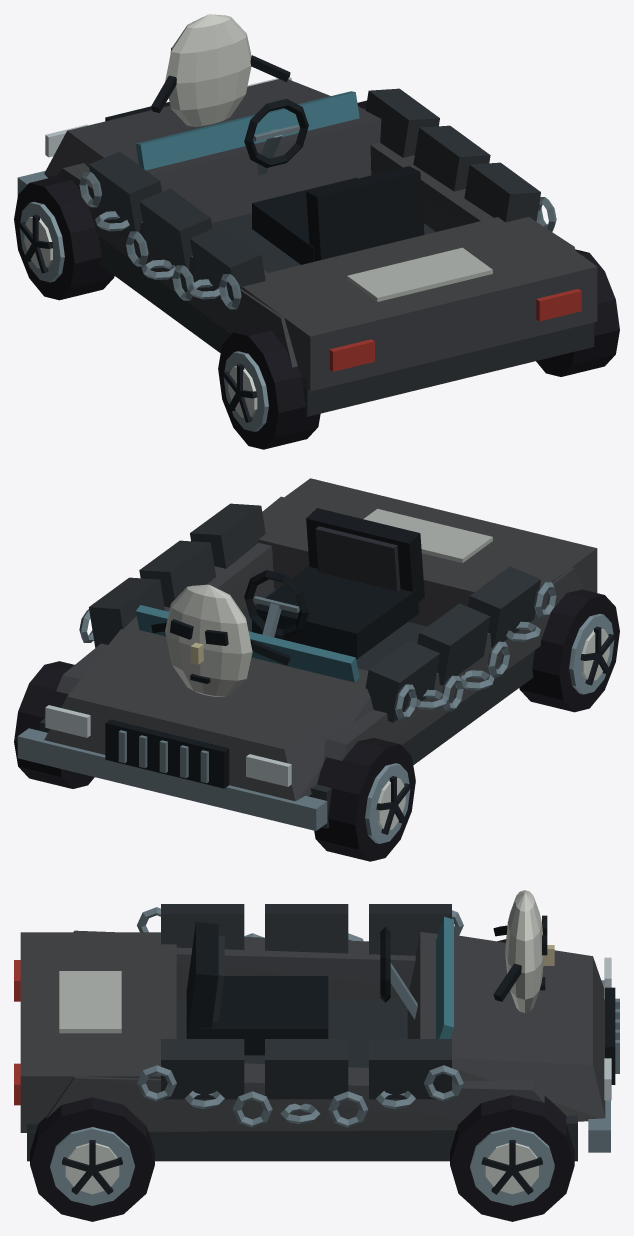
File: kart.glb
The picture shows the model from 3 angles, top to bottom: view 1: azimuth 30°, elevation 25°; view 2: azimuth 150°, elevation 25°; view 3: azimuth 270°, elevation 25°; orthographic projection. The views are drawn at different scales.
Visible parts, largest first — view 1: identity-sedan-sedan-road-car-body, identity-sedan-motif-armor, identity-sedan-driver-cockpit, wheel-front-left, wheel-rear-left, identity-sedan-motif-mask, identity-sedan-motif-chains, wheel-rear-right; view 2: identity-sedan-sedan-road-car-body, identity-sedan-motif-armor, identity-sedan-driver-cockpit, wheel-front-left, wheel-rear-left, identity-sedan-motif-mask, identity-sedan-motif-chains, wheel-front-right; view 3: identity-sedan-sedan-road-car-body, identity-sedan-motif-armor, wheel-front-right, identity-sedan-driver-cockpit, wheel-rear-right, identity-sedan-motif-chains, identity-sedan-motif-mask.
Boxes of the visible parts, box(x1,y1,x2,y2) form: identity-sedan-sedan-road-car-body: box(17, 77, 597, 416); identity-sedan-motif-armor: box(89, 88, 540, 307); identity-sedan-driver-cockpit: box(244, 99, 424, 264); wheel-front-left: box(14, 176, 114, 300); wheel-rear-left: box(218, 326, 320, 449); identity-sedan-motif-mask: box(151, 14, 290, 126); identity-sedan-motif-chains: box(79, 172, 556, 309); wheel-rear-right: box(536, 249, 619, 376); identity-sedan-sedan-road-car-body: box(17, 478, 597, 830); identity-sedan-motif-armor: box(89, 503, 540, 722); identity-sedan-driver-cockpit: box(244, 508, 424, 659); wheel-front-left: box(314, 738, 415, 861); wheel-rear-left: box(519, 589, 619, 712); identity-sedan-motif-mask: box(151, 584, 290, 697); identity-sedan-motif-chains: box(79, 582, 556, 719); wheel-front-right: box(14, 661, 94, 788); identity-sedan-sedan-road-car-body: box(14, 916, 619, 1161); identity-sedan-motif-armor: box(161, 904, 451, 1099); wheel-front-right: box(450, 1095, 574, 1221); identity-sedan-driver-cockpit: box(186, 922, 417, 1055); wheel-rear-right: box(30, 1097, 154, 1221); identity-sedan-motif-chains: box(137, 907, 463, 1127); identity-sedan-motif-mask: box(493, 890, 554, 1012).
Bounding box in the file's own units: 2.07 × 1.29 × 2.92.
